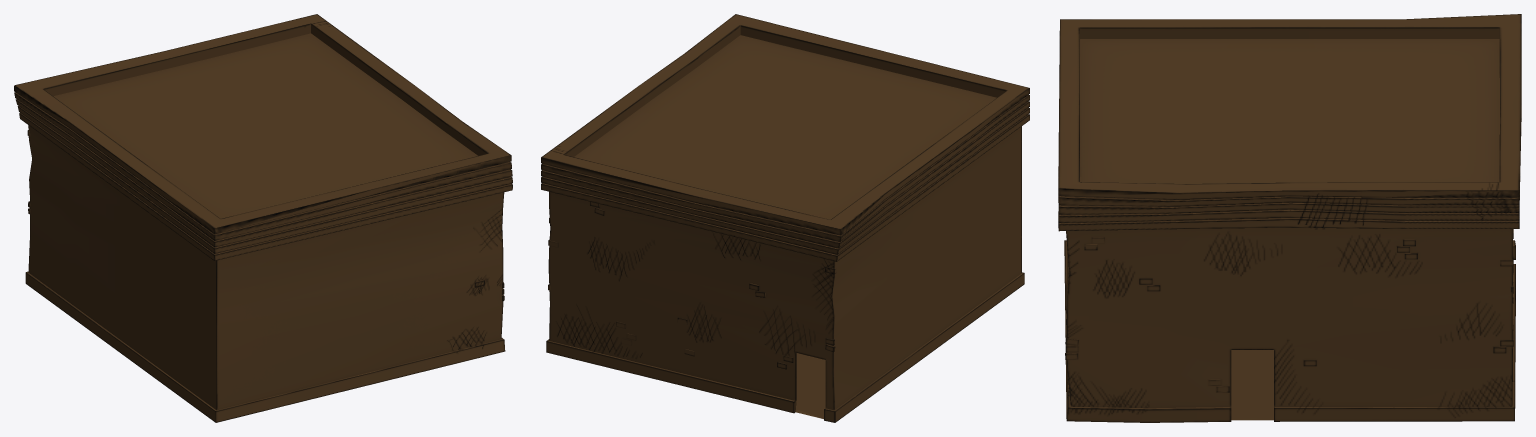
Rendered from Building_IKEA.fbx.
3 views of the same model, side by side, from view 1: azimuth 30°, elevation 25°; view 2: azimuth 150°, elevation 25°; view 3: azimuth 270°, elevation 25° (orthographic). The views are drawn at different scales.
Parts seen in each view (by area): view 1: IKEA; view 2: IKEA; view 3: IKEA.
Part boxes in pixels (<box>): IKEA: <box>14,14,512,422</box>; IKEA: <box>541,14,1029,422</box>; IKEA: <box>1058,14,1521,422</box>.
Bounding box in the file's own units: 946 × 592 × 1059.
